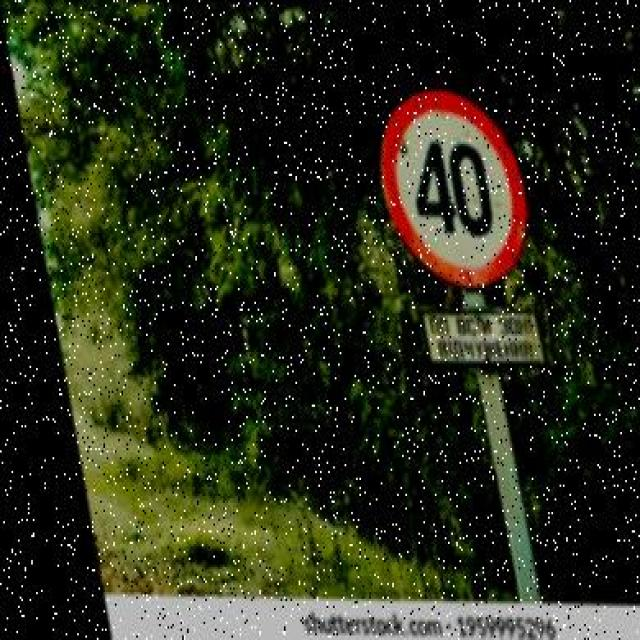speed limit 40: (381, 92, 526, 286)
